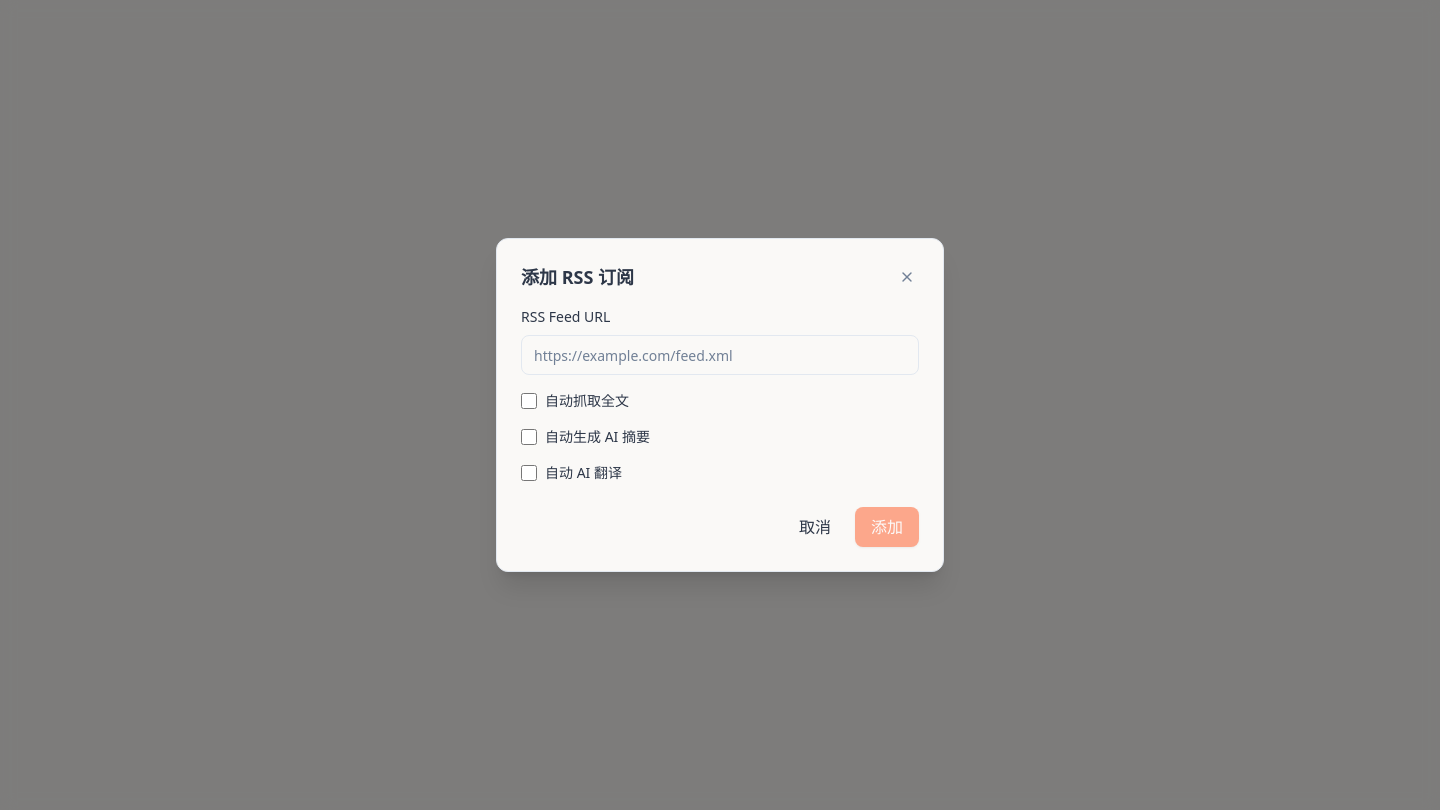
Test: AddFeedDialog › shows error when URL is invalid on submit
Type "not-a-url" into the field labelled "RSS Feed URL". click: (720, 355)
box: [521,335,919,375]
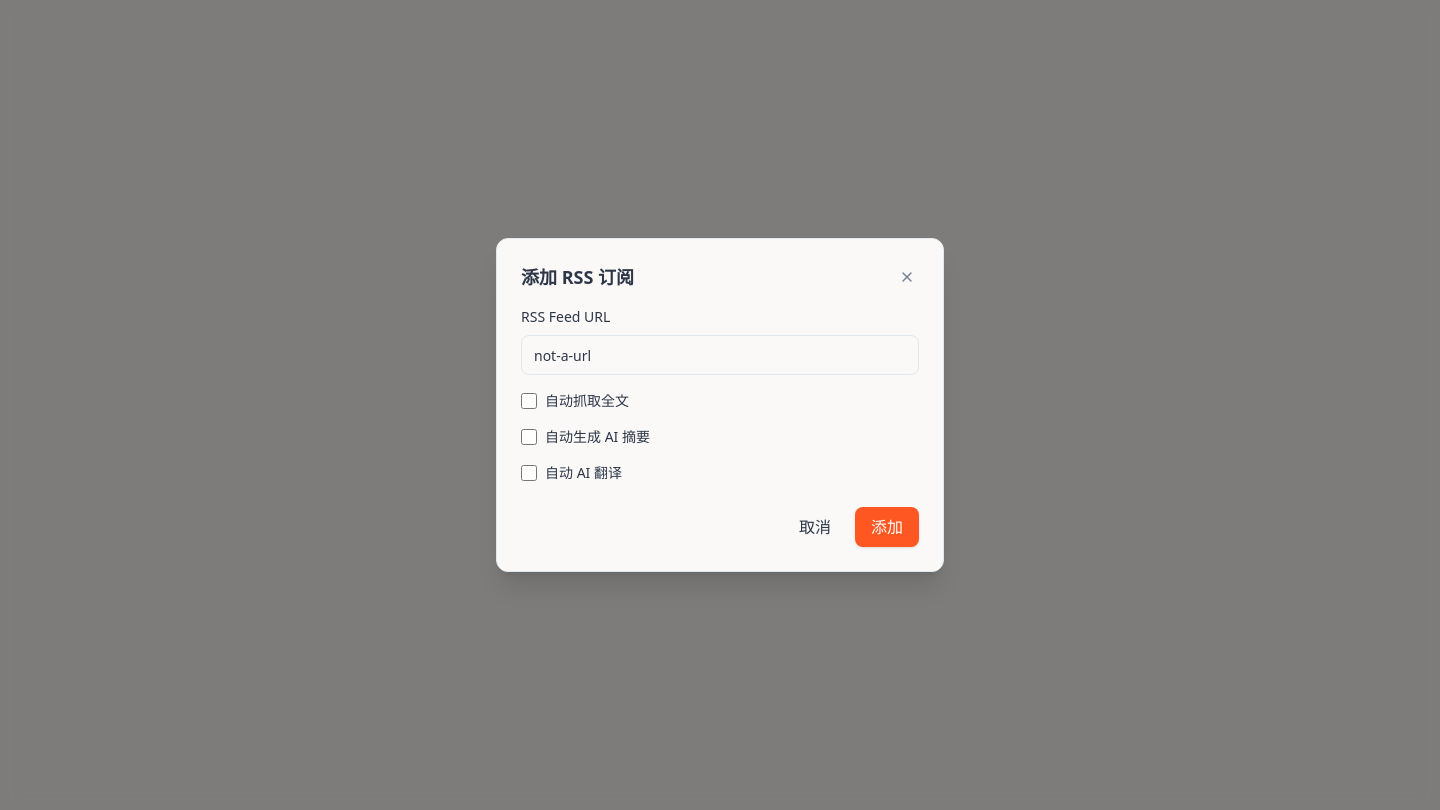
Click the button "添加". click: (887, 527)
box: [855,507,919,547]
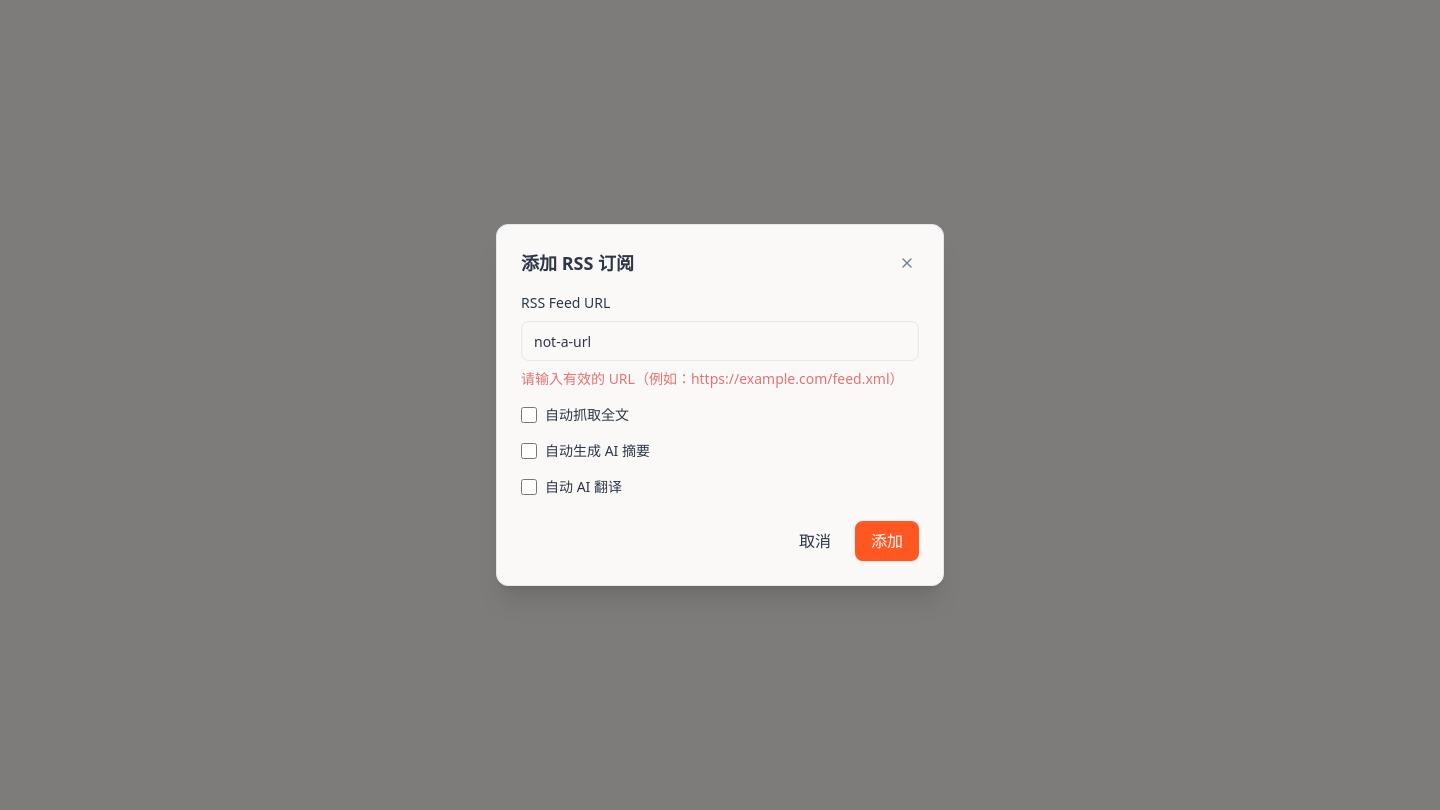
Expected: the text "请输入有效的 URL（例如：https://example.com/feed.xml）" is shown, [521,369,919,389]
